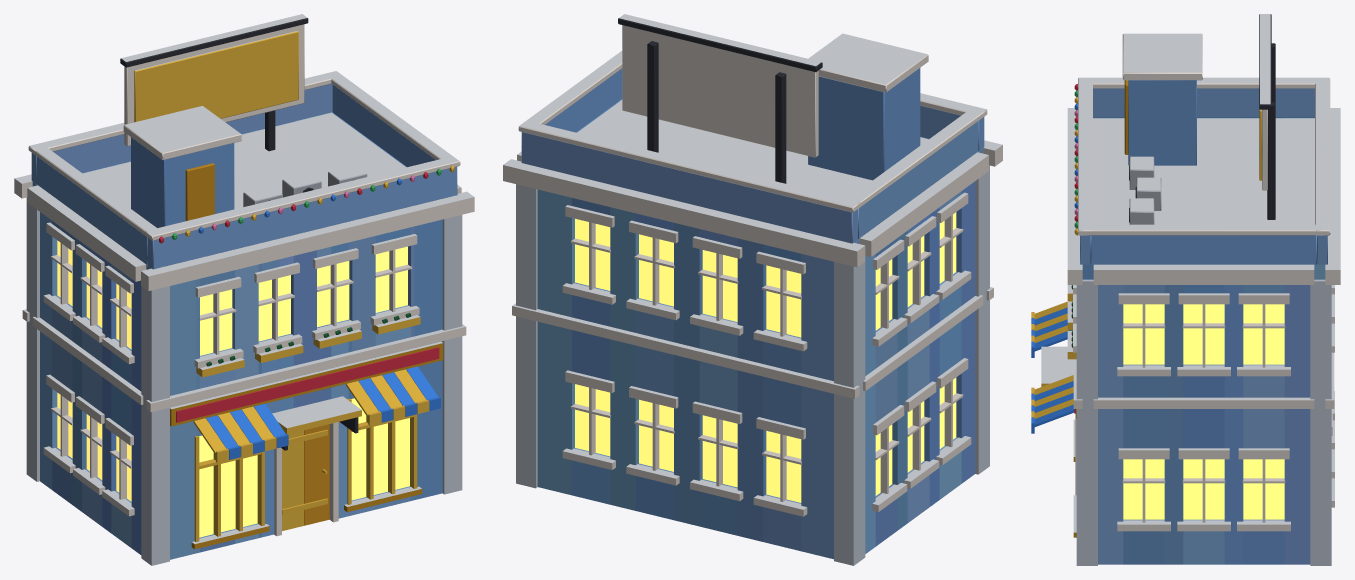
The model's file is Shop_Toys.glb.
3 views of the same model, side by side, from view 1: azimuth 30°, elevation 25°; view 2: azimuth 150°, elevation 25°; view 3: azimuth 270°, elevation 25° (orthographic). The views are drawn at different scales.
Visible parts, largest first — view 1: Shop_Toys_Roof, Shop_Toys_Trim, Shop_Toys_Walls, Shop_Toys_Shopfront, Shop_Toys_Glow, Shop_Toys_Balconies, Shop_Toys_Lights; view 2: Shop_Toys_Walls, Shop_Toys_Roof, Shop_Toys_Trim, Shop_Toys_Glow; view 3: Shop_Toys_Roof, Shop_Toys_Walls, Shop_Toys_Trim, Shop_Toys_Glow, Shop_Toys_Shopfront, Shop_Toys_Lights, Shop_Toys_Balconies.
Boxes of the visible parts, x1,y1,x2,y2 form: Shop_Toys_Roof: (28, 14, 460, 269); Shop_Toys_Trim: (14, 174, 474, 565); Shop_Toys_Walls: (32, 112, 442, 559); Shop_Toys_Shopfront: (170, 341, 443, 536); Shop_Toys_Glow: (57, 240, 409, 537); Shop_Toys_Balconies: (196, 313, 420, 377); Shop_Toys_Lights: (159, 165, 454, 243); Shop_Toys_Walls: (537, 99, 983, 559); Shop_Toys_Roof: (518, 14, 987, 243); Shop_Toys_Trim: (503, 140, 1002, 565); Shop_Toys_Glow: (575, 212, 956, 502); Shop_Toys_Roof: (1078, 14, 1330, 264); Shop_Toys_Walls: (1082, 118, 1325, 564); Shop_Toys_Trim: (1067, 108, 1340, 565); Shop_Toys_Glow: (1123, 304, 1284, 519); Shop_Toys_Shopfront: (1031, 301, 1076, 495); Shop_Toys_Lights: (1074, 84, 1077, 235); Shop_Toys_Balconies: (1067, 285, 1076, 359).
Size of the model in its own units: 27.8 by 34.45 by 22.42.
